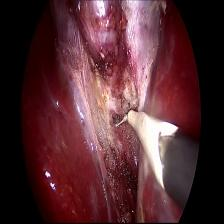Hook: (112, 107, 181, 188)
